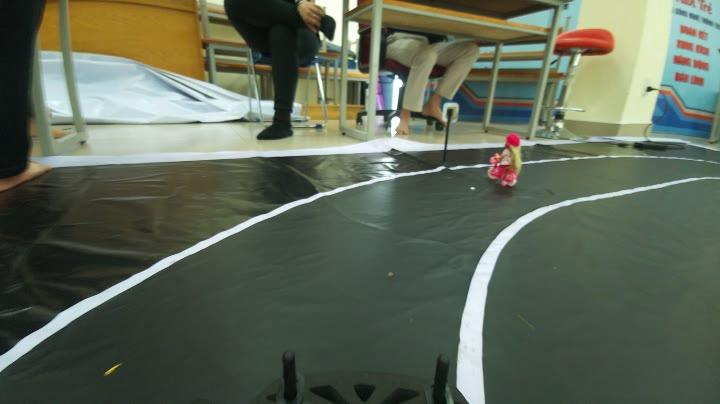pedestrian: (485, 128, 526, 189)
